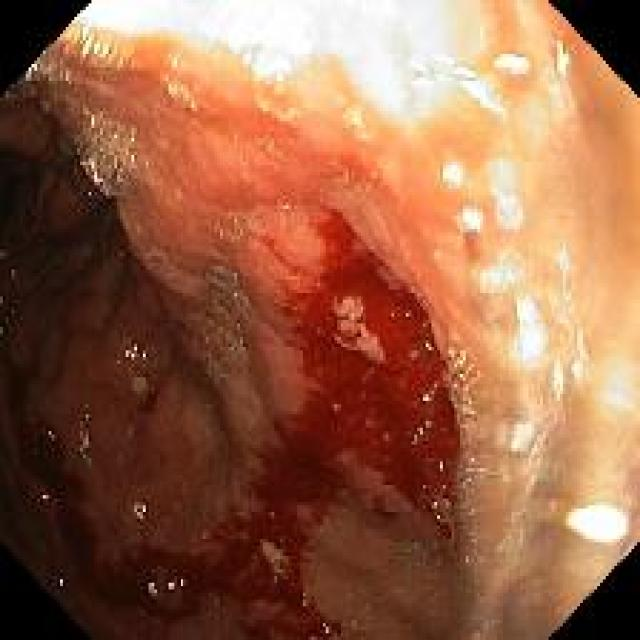blood: (14, 211, 462, 638)
contrast: (3, 102, 124, 350)
saturation: (76, 2, 504, 126)
specularity: (512, 298, 546, 364), (491, 165, 523, 227), (568, 508, 624, 541), (460, 81, 497, 108), (478, 267, 521, 290), (434, 58, 475, 78), (495, 54, 529, 73), (512, 424, 533, 452), (82, 24, 100, 55), (574, 331, 585, 380), (460, 210, 482, 233), (441, 167, 463, 187), (90, 161, 104, 187), (553, 370, 564, 403), (558, 44, 567, 78), (133, 503, 146, 520), (126, 344, 138, 360), (149, 584, 157, 595), (179, 580, 185, 590), (168, 583, 174, 590), (438, 464, 444, 471), (422, 396, 428, 403), (437, 516, 443, 522), (419, 429, 423, 437), (433, 503, 437, 511), (44, 495, 48, 502)
